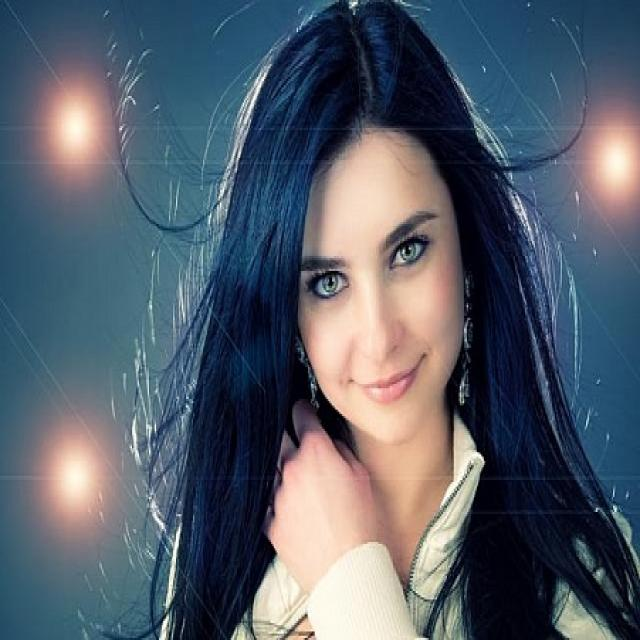Eyes: (298, 212, 448, 306)
